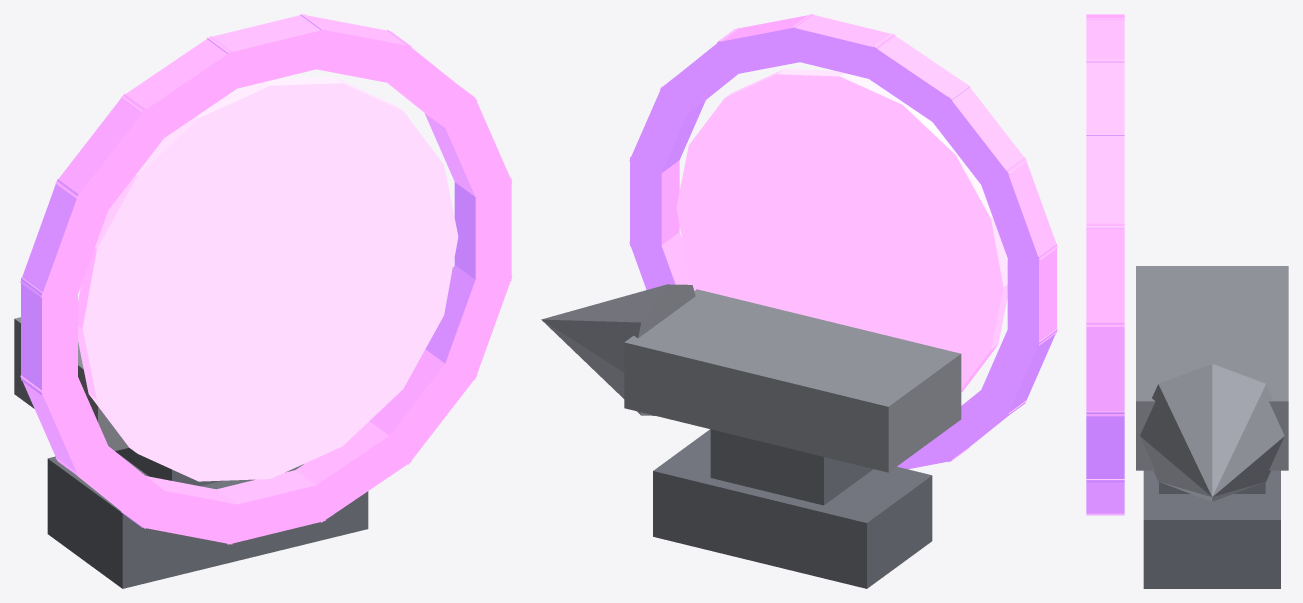
The model's file is junk_rift.glb.
3 renders of one model, left to right at view 1: azimuth 30°, elevation 25°; view 2: azimuth 150°, elevation 25°; view 3: azimuth 270°, elevation 25°, orthographic. The views are drawn at different scales.
Parts seen in each view (by area): view 1: JunkRift; view 2: JunkRift; view 3: JunkRift.
Part boxes in pixels (<box>): JunkRift: <box>14,14,512,588</box>; JunkRift: <box>541,14,1057,588</box>; JunkRift: <box>1086,14,1288,588</box>.
Size of the model in its own units: 0.3631 by 0.3581 by 0.1325.
